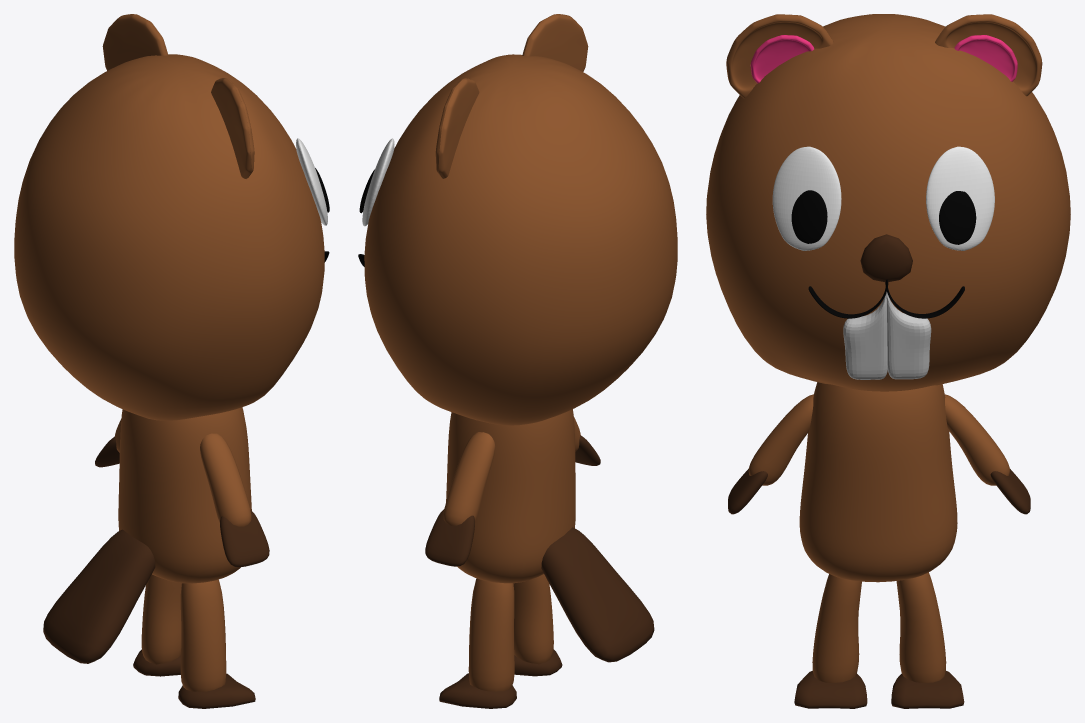
The model's file is Beaver.fbx.
The picture shows the model from 3 angles, left to right: view 1: azimuth 30°, elevation 25°; view 2: azimuth 150°, elevation 25°; view 3: azimuth 270°, elevation 25°; orthographic projection. The views are drawn at different scales.
Visible parts, largest first — view 1: Head, Torso, Tail, Legs, Ears, Arms, Hands, Feet, Eyes; view 2: Head, Torso, Tail, Legs, Ears, Arms, Hands, Feet, Eyes; view 3: Head, Torso, Ears, Legs, Eyes, Teeth, Arms, Feet, Pupil, Hands, Nose, Smile.
Boxes of the visible parts, x1,y1,x2,y2 form: Head: [14, 54, 324, 420]; Torso: [118, 407, 251, 583]; Tail: [43, 529, 155, 663]; Legs: [141, 574, 226, 691]; Ears: [102, 14, 254, 178]; Arms: [114, 419, 251, 526]; Hands: [95, 437, 269, 567]; Feet: [133, 649, 255, 708]; Eyes: [296, 138, 327, 225]; Head: [364, 54, 677, 425]; Torso: [446, 409, 575, 583]; Tail: [541, 527, 654, 662]; Legs: [468, 574, 553, 691]; Ears: [435, 14, 588, 178]; Arms: [443, 416, 580, 525]; Hands: [425, 435, 600, 566]; Feet: [439, 649, 562, 708]; Eyes: [362, 138, 394, 226]; Head: [706, 14, 1070, 391]; Torso: [799, 382, 957, 582]; Ears: [726, 14, 1042, 98]; Legs: [812, 572, 946, 682]; Eyes: [772, 146, 994, 250]; Teeth: [843, 292, 931, 379]; Arms: [748, 394, 1009, 485]; Feet: [794, 671, 964, 708]; Pupil: [791, 190, 976, 244]; Hands: [728, 469, 1030, 514]; Nose: [860, 234, 912, 282]; Smile: [808, 279, 964, 318].
Bounding box in the file's own units: 89.5 × 202 × 98.38.
